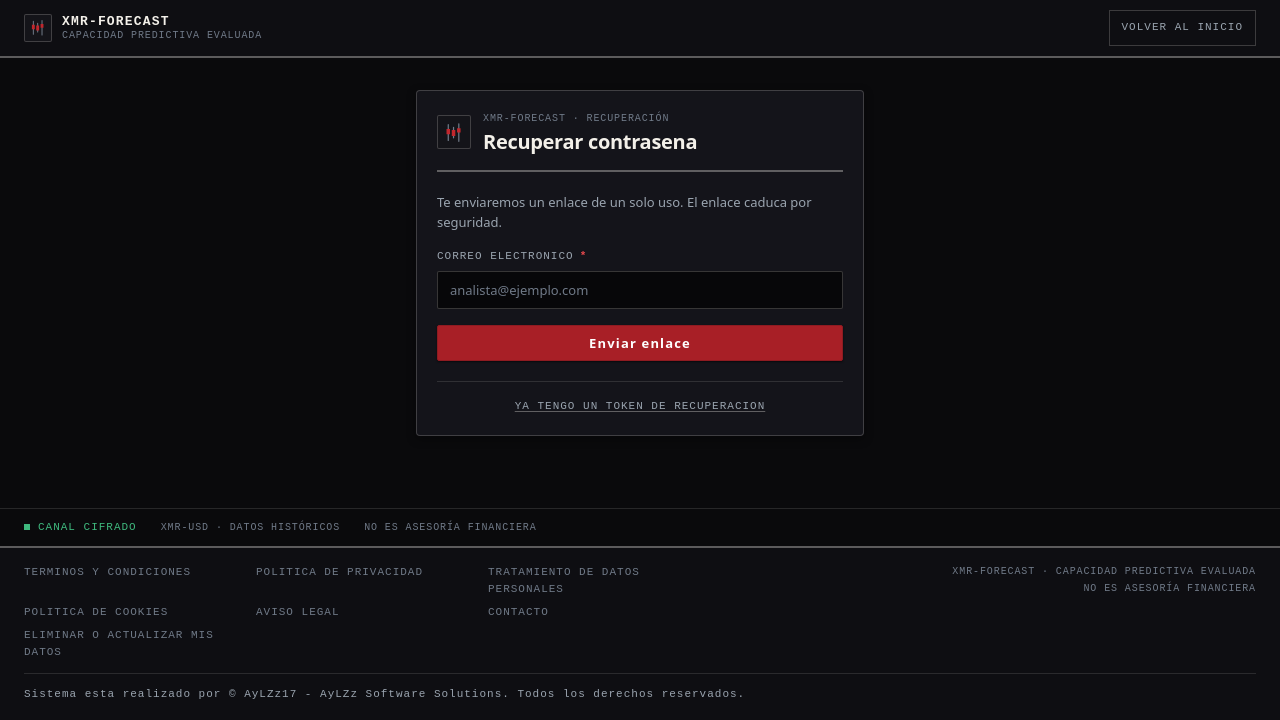
Test: password recovery › requests a recovery email
The width and height of the screenshot is (1280, 720).
Step 1. Type "ana@ejemplo.com" into the field labelled "Correo electronico *" → {"x": 640, "y": 290}, box [437,271,843,309]
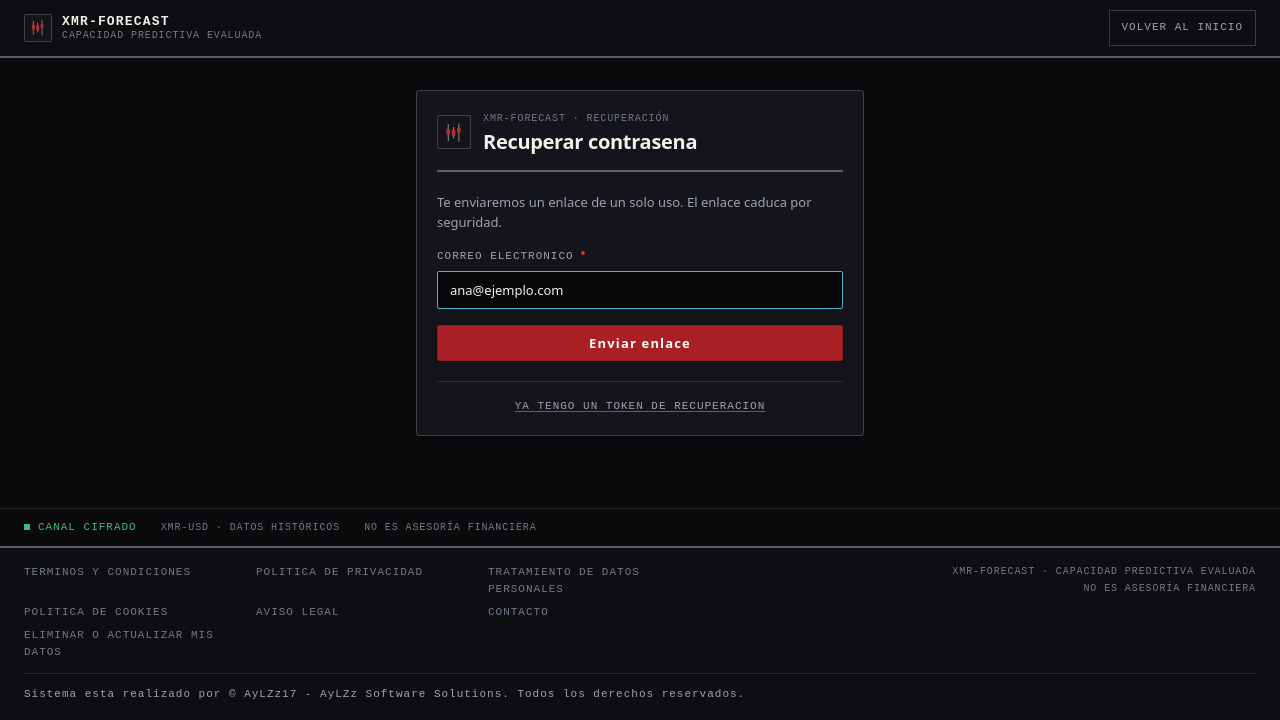
Step 2. Click the button "Enviar enlace" → {"x": 640, "y": 343}, box [437,325,843,361]
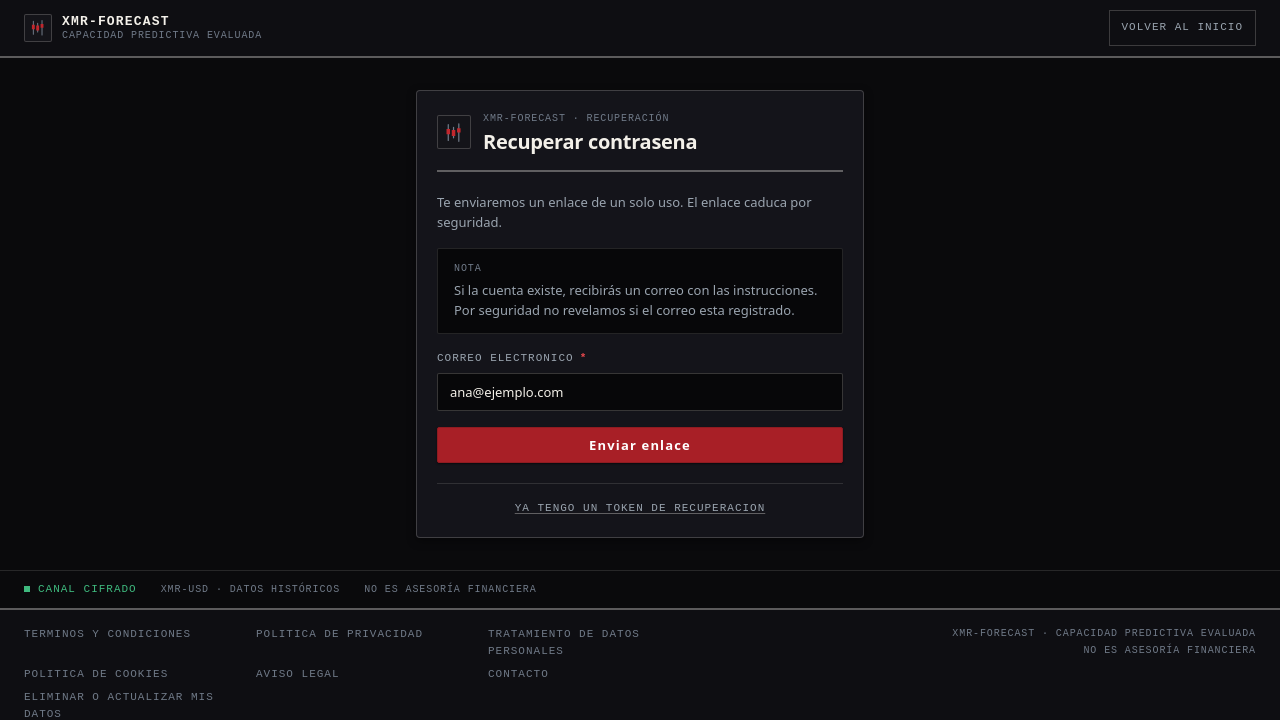
Expected: the text "Si la cuenta existe" is shown, [454,281,818,319]
